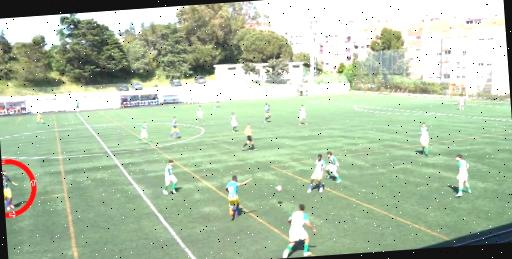highlight_overlay: (2, 154, 40, 218)
